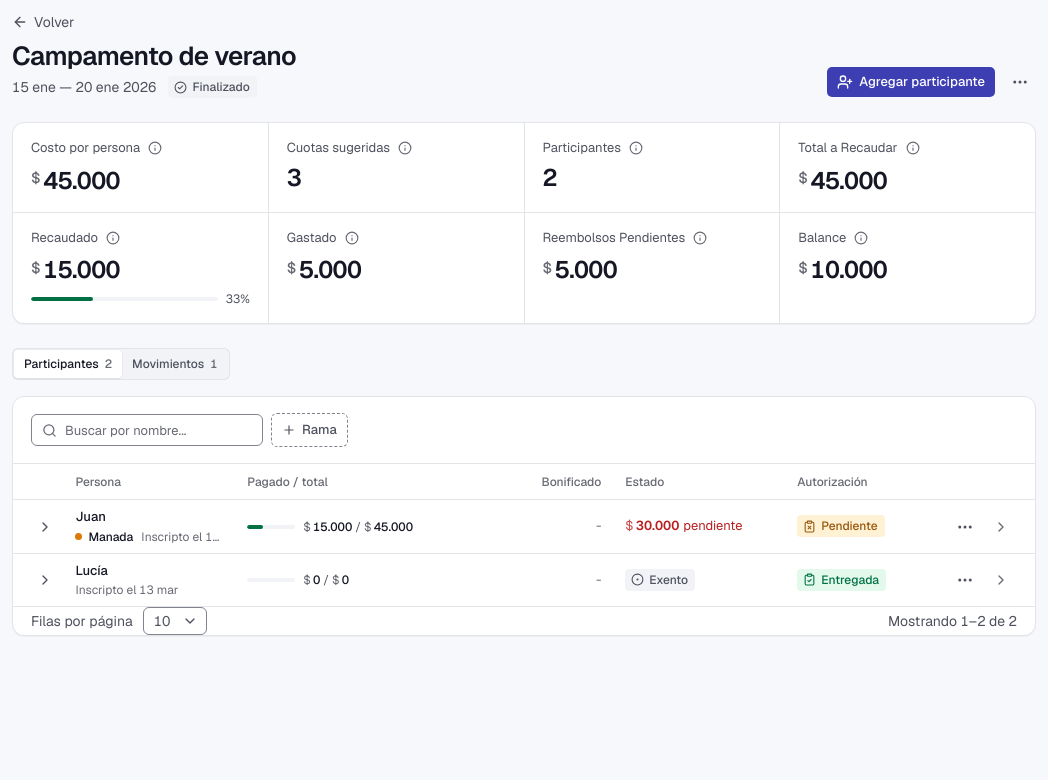
Test: CampamentoDetailView › ⋯ del participante: acciones según su estado
What coordinates should you click on to do the following:
click the button named "Acciones para Juan"
I would click on:
 (965, 527)
Its box is [949,511,981,543].
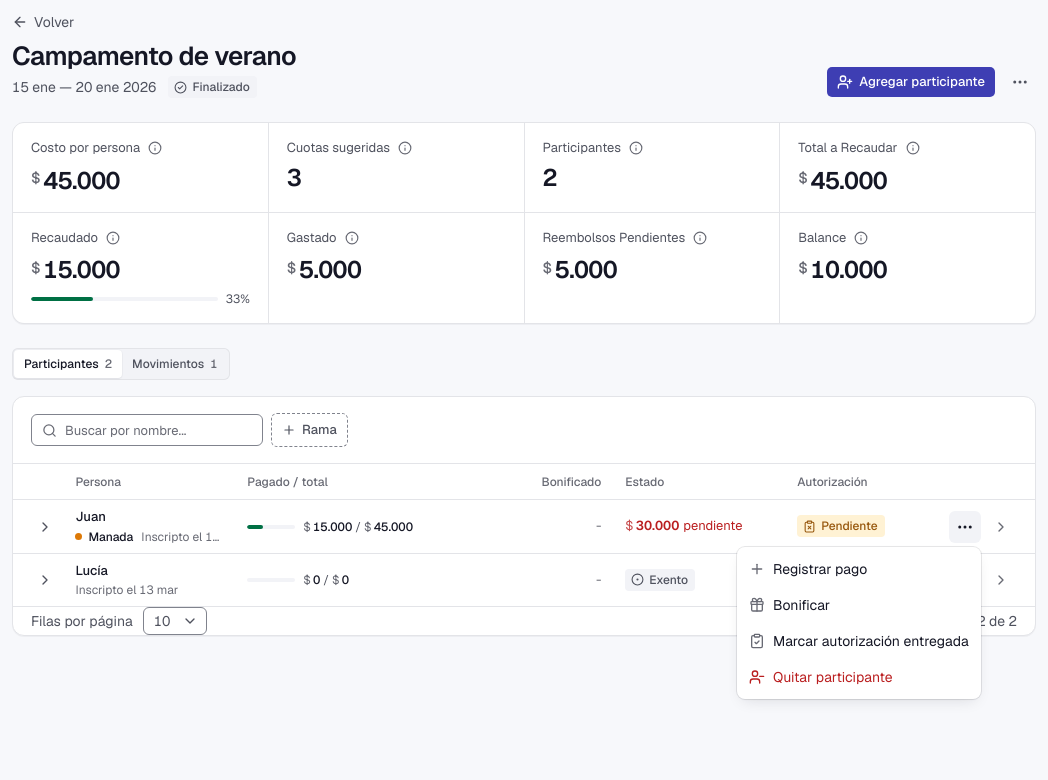
Result: the menu items read "Registrar pago", "Bonificar", "Marcar autorización entregada", "Quitar participante", in this order at [749,560,867,578]; [749,596,830,614]; [749,632,969,650]; [749,668,893,686]
